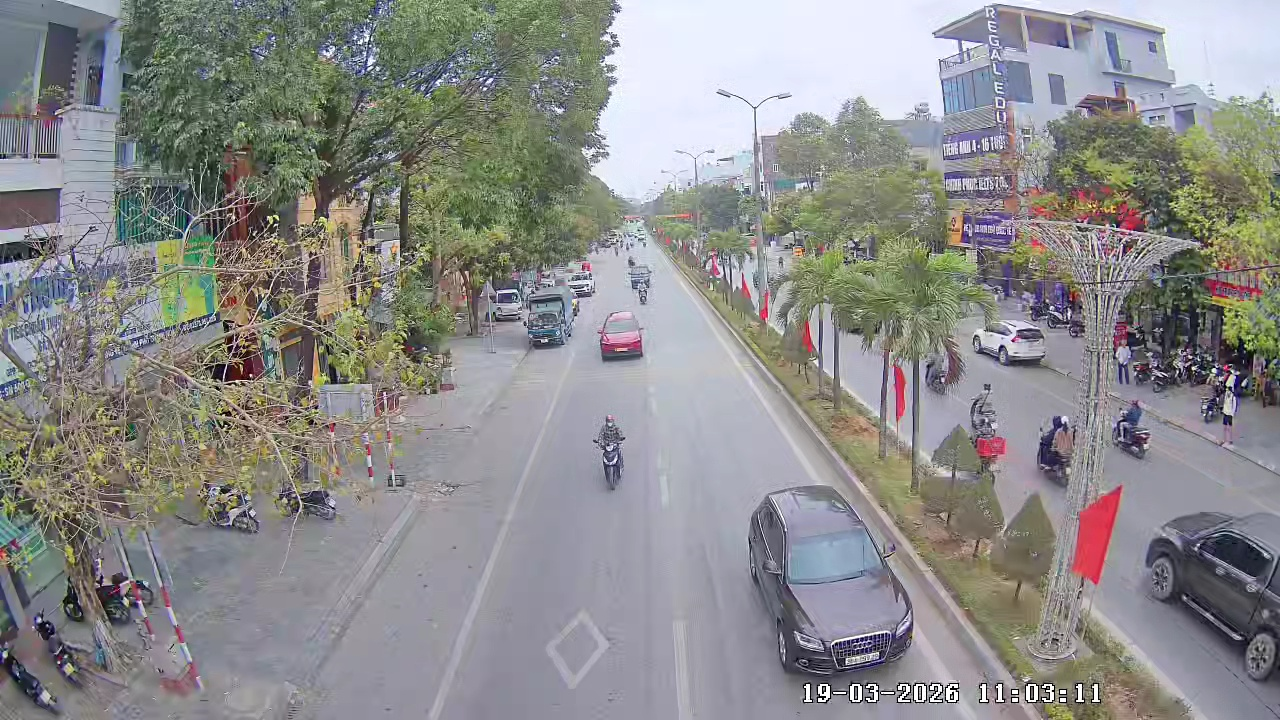car: (744, 483, 917, 676), (1142, 509, 1279, 682), (972, 321, 1049, 367), (596, 309, 647, 363)
motorbike: (1034, 412, 1077, 488), (590, 411, 628, 492), (1112, 399, 1153, 460), (635, 269, 652, 306)
truck: (523, 288, 573, 348)
